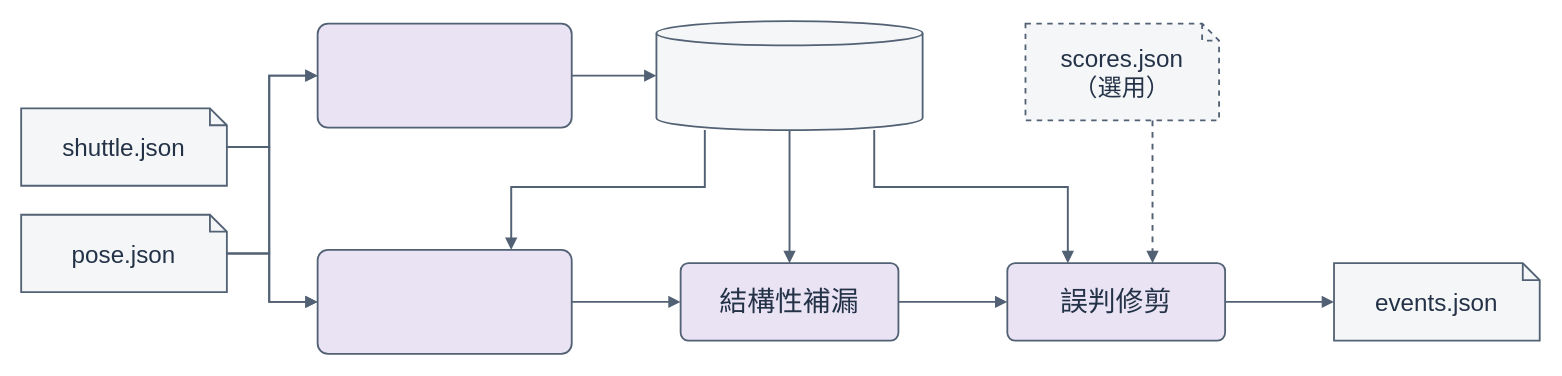
The diagram is 1562 pixels wide and 376 high, and some of its shapes have lost their labels. The shapes that lost their labels are listed below. From the top down, each one's centre as x and y in pixels, then its label:
the point at 444,75: BST 逐幀 密集掃描
the point at 789,75: 逐幀球種 機率快取
the point at 444,301: 候選生成 與篩選
